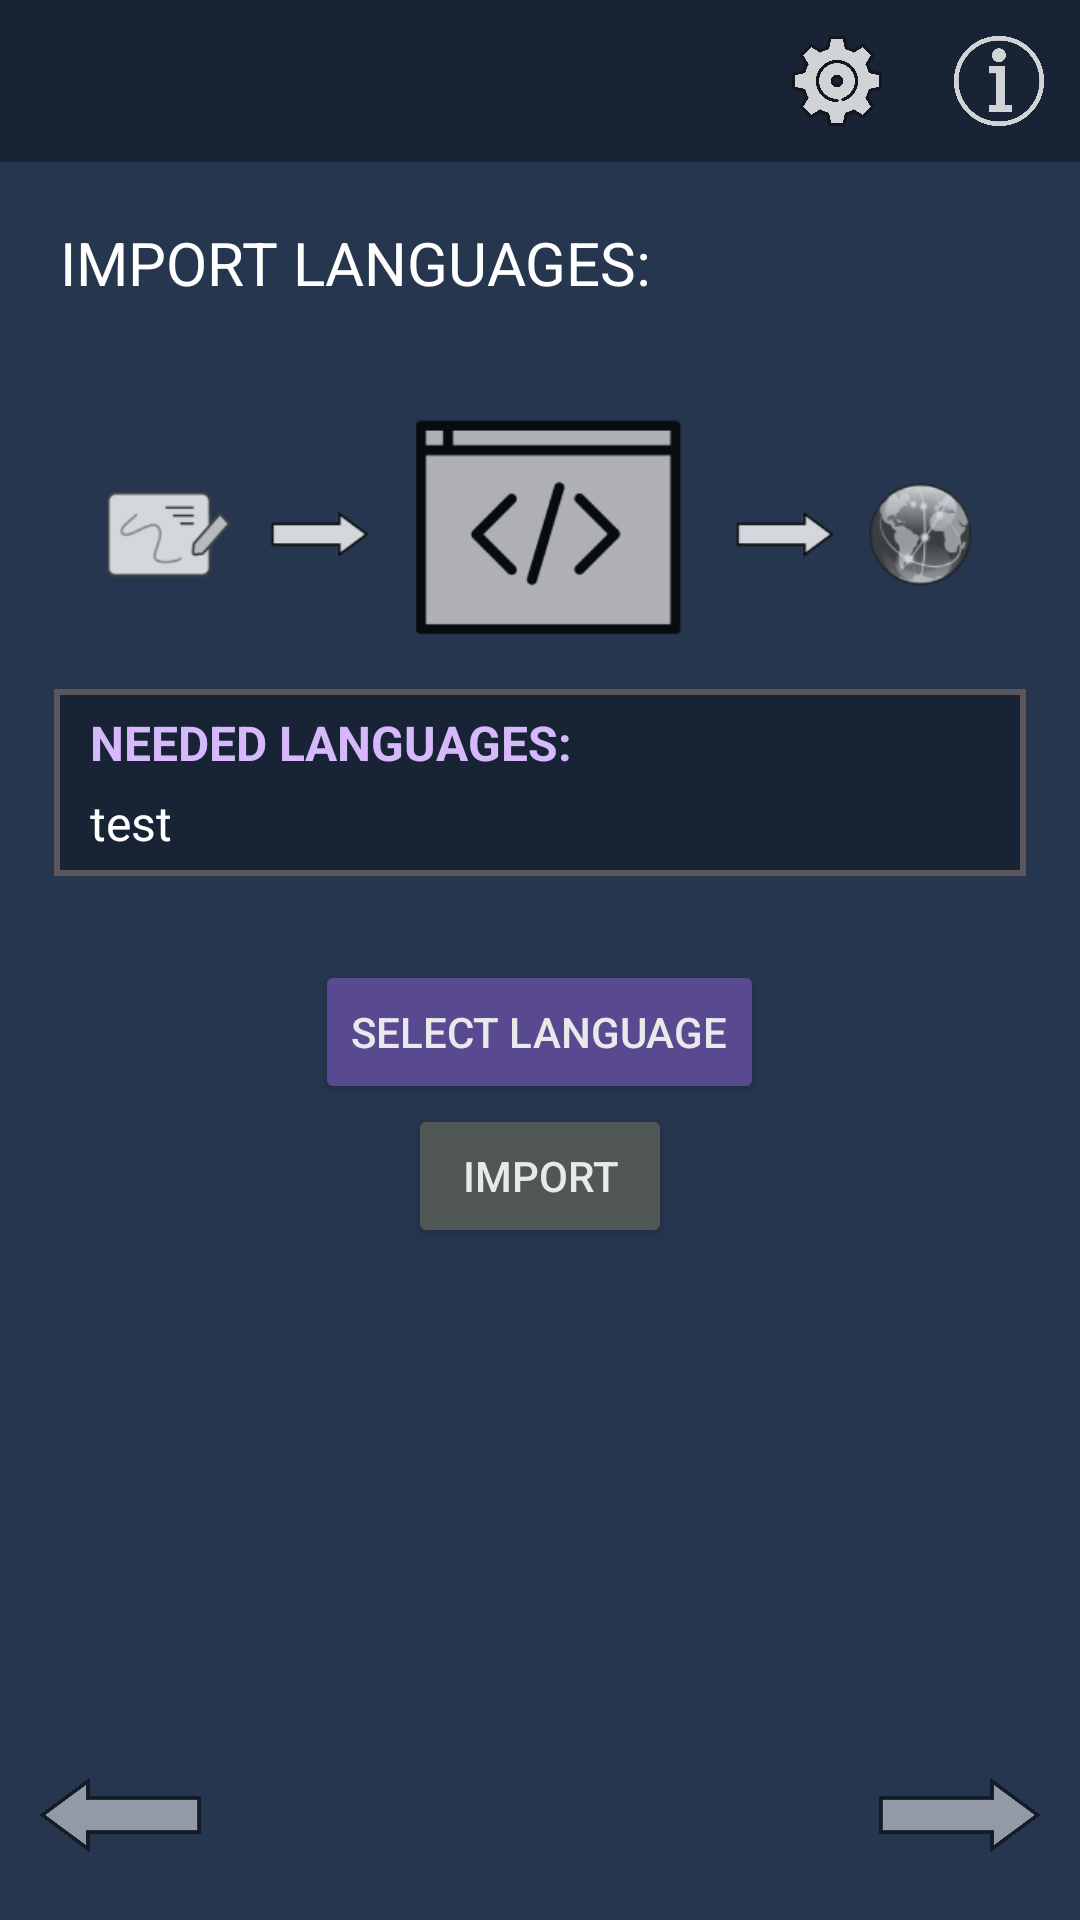

Icon click points for this 1080 x 1920 phone screenshot, format point (x, y):
infobox: point (999, 81)
settings: point (837, 81)
